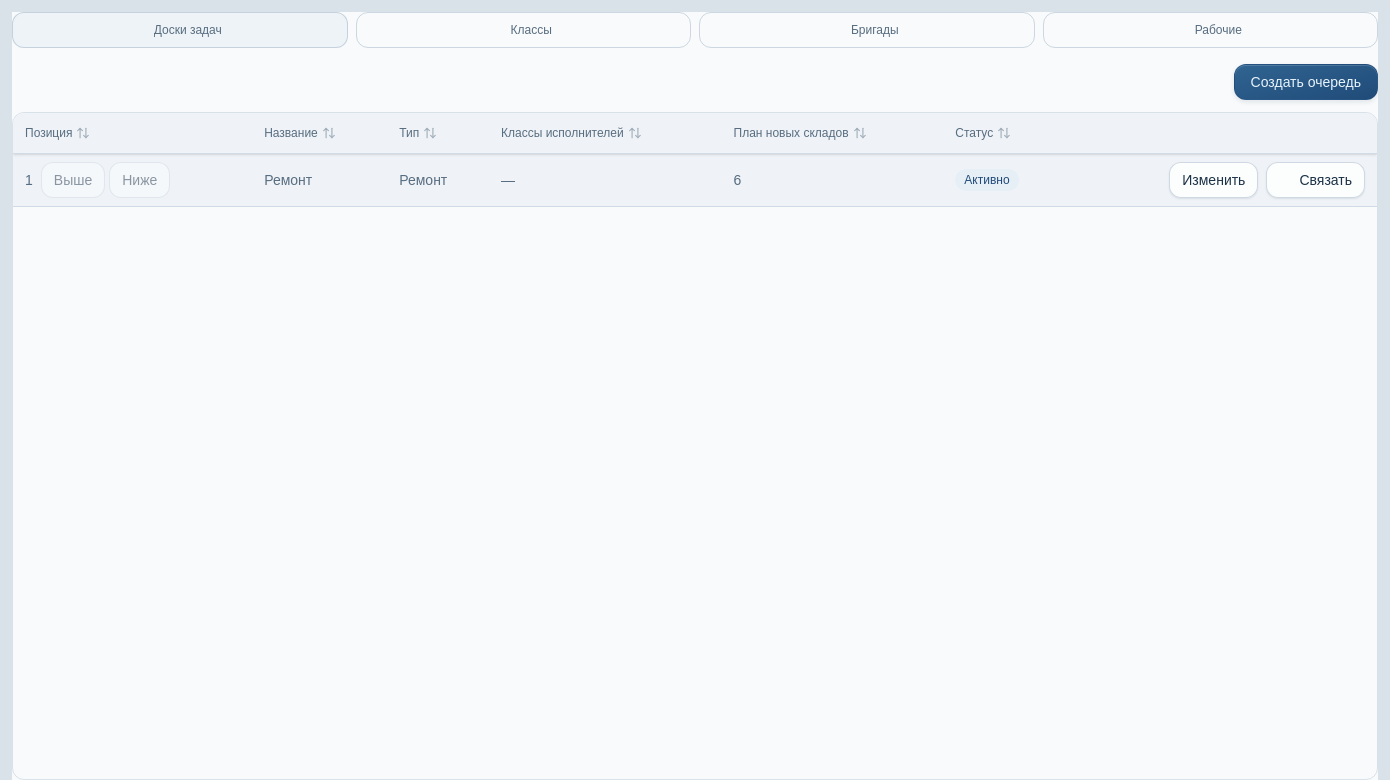
TaskBoardSettingsPage workforce operations › shows the current group without a second assignment action
Click the radio button labelled "Рабочие". click: click(1210, 30)
box: [1042,12,1378,48]
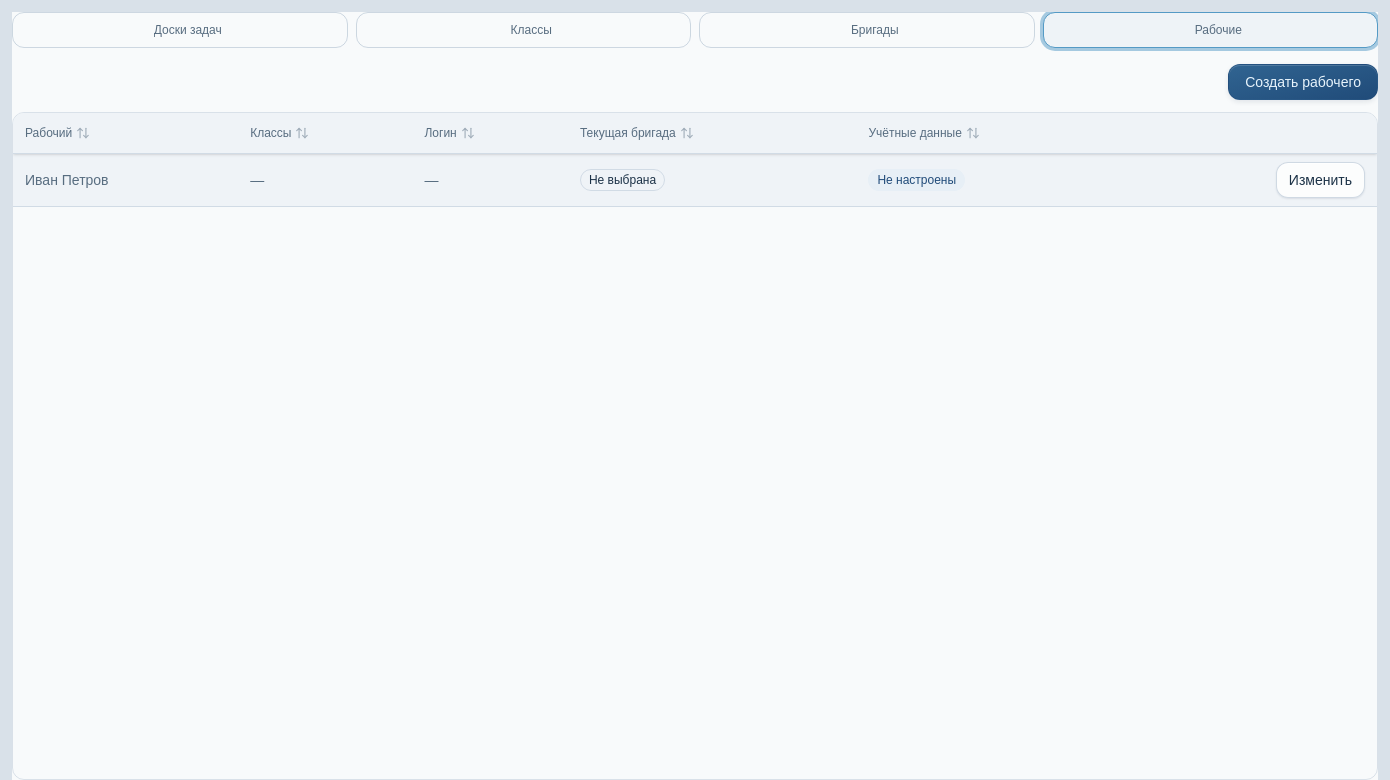
Result: the text "Не выбрана" is shown at [580,169,665,191]
